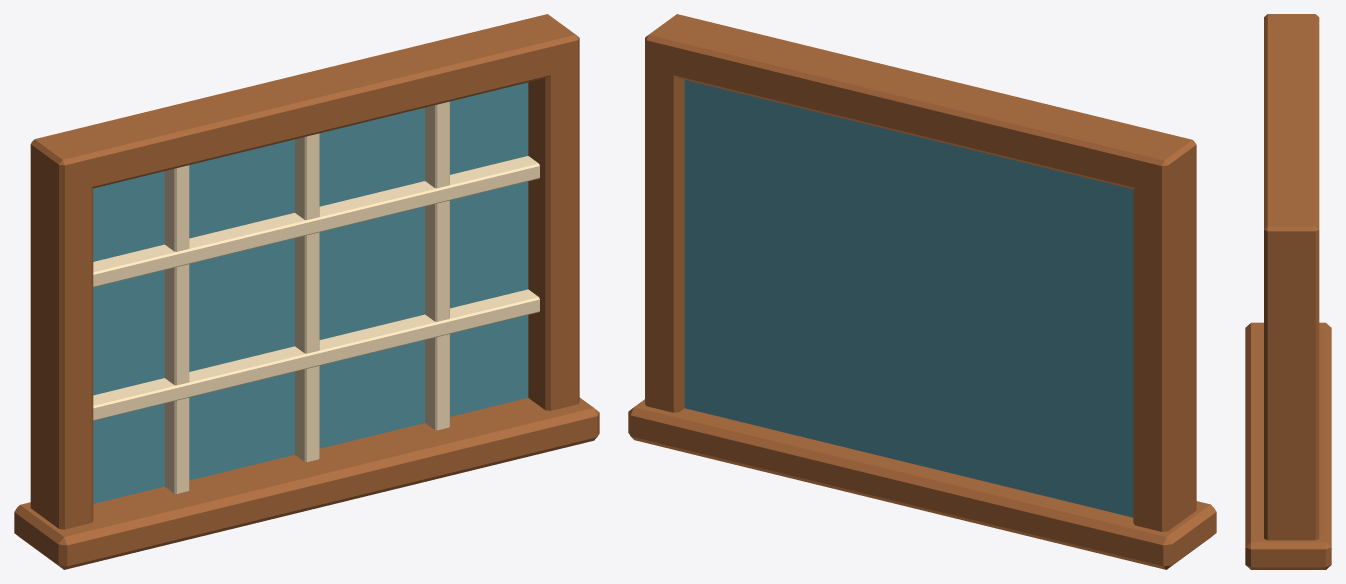
Rendered from window_wide.glb.
3 views of the same model, side by side, from view 1: azimuth 30°, elevation 25°; view 2: azimuth 150°, elevation 25°; view 3: azimuth 270°, elevation 25° (orthographic). The views are drawn at different scales.
Parts seen in each view (by area): view 1: Batente.002, Vidraça.001, Caixilho horizontal.002; view 2: Vidraça.001, Batente.002; view 3: Batente.002.
Boxes of the visible parts, x1,y1,x2,y2 form: Batente.002: (14, 14, 599, 569); Vidraça.001: (93, 82, 528, 503); Caixilho horizontal.002: (93, 101, 539, 493); Vidraça.001: (684, 80, 1133, 517); Batente.002: (628, 14, 1216, 569); Batente.002: (1245, 14, 1331, 569).
Size of the model in its own units: 1.73 by 1.22 by 0.2801.
